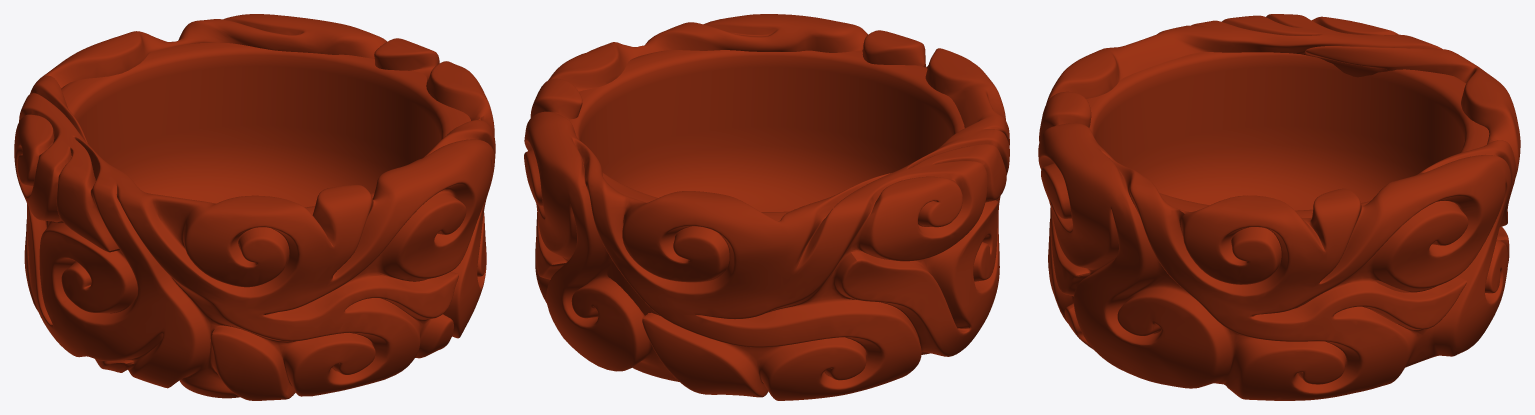
The model's file is Hakod02.gltf.
3 renders of one model, left to right at view 1: azimuth 30°, elevation 25°; view 2: azimuth 150°, elevation 25°; view 3: azimuth 270°, elevation 25°, orthographic.
Visible parts, largest first — view 1: Hakod01 pot arabesque (1); view 2: Hakod01 pot arabesque (1); view 3: Hakod01 pot arabesque (1).
Boxes of the visible parts, x1,y1,x2,y2 form: Hakod01 pot arabesque (1): (14, 14, 495, 400); Hakod01 pot arabesque (1): (524, 14, 1009, 400); Hakod01 pot arabesque (1): (1038, 14, 1520, 400).
Size of the model in its own units: 0.7801 by 0.3545 by 0.76.
